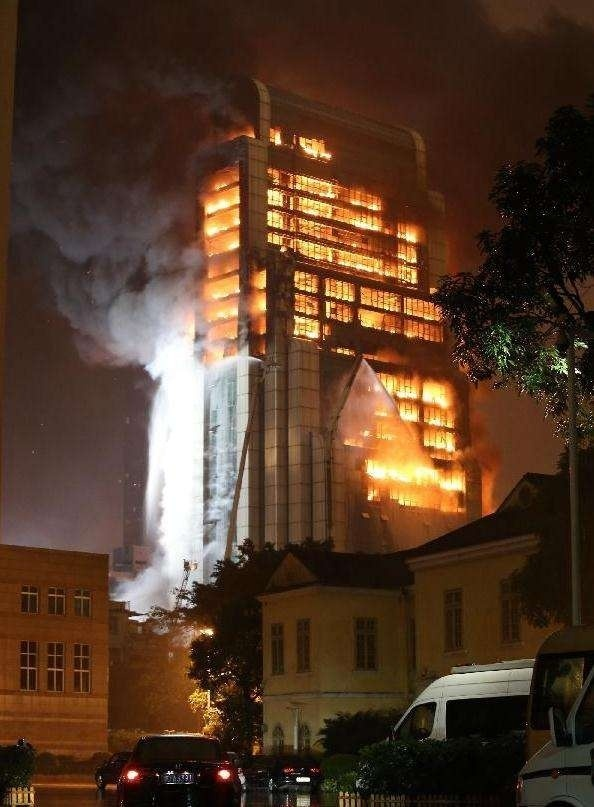fire: (201, 108, 476, 528)
